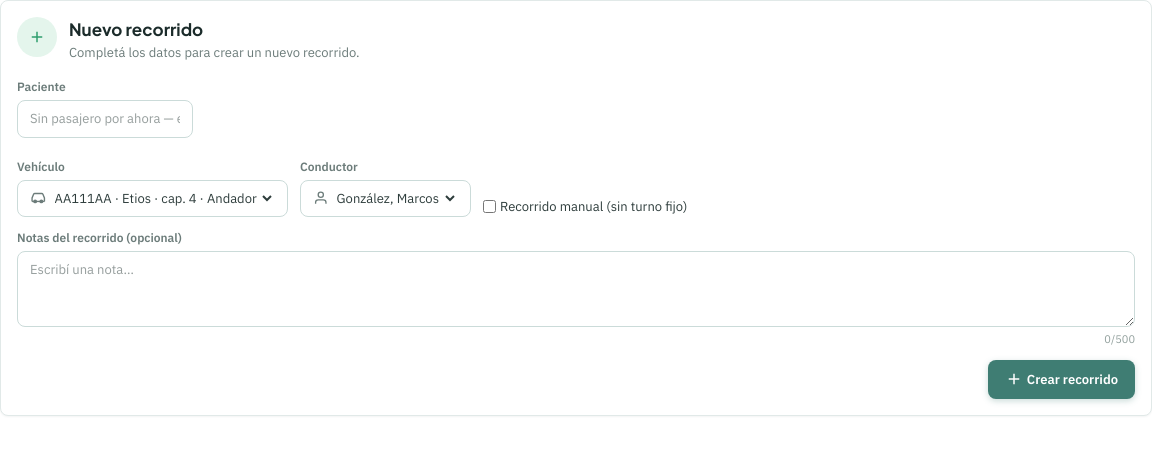
Scenario: NuevoRecorridoForm › al elegir un paciente con accesorios, los muestra como chips
Step 1. Click the dropdown labelled "Paciente" → (105, 119), box 17,100 -> 193,138
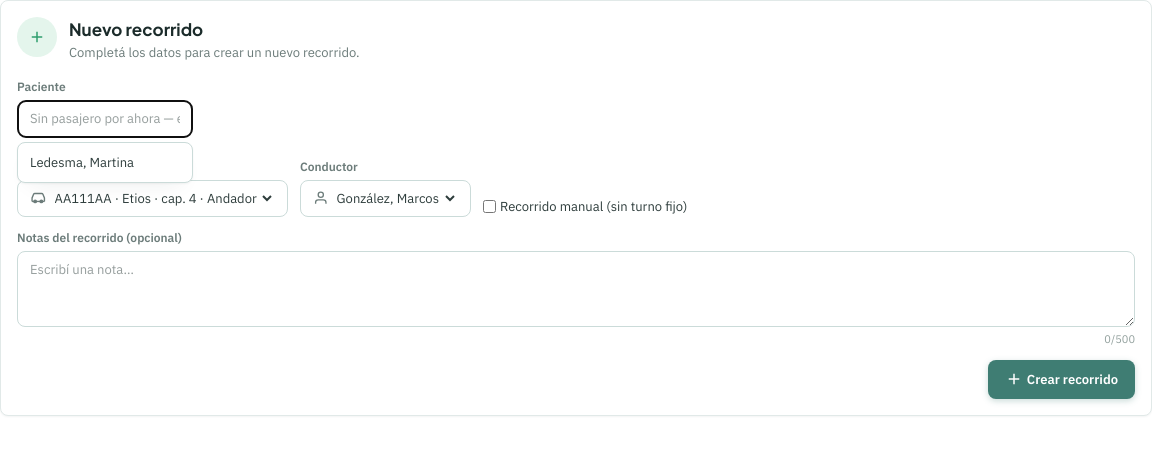
Step 2. Click the option "Ledesma, Martina" → (82, 162), box 30,154 -> 134,170
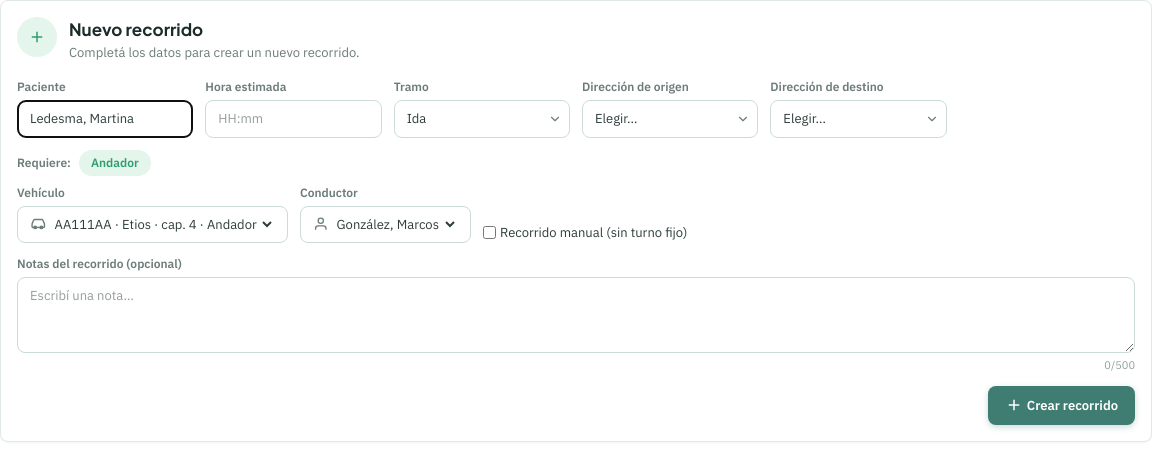
Now the text "Andador" is shown, box 79,150 -> 151,176
